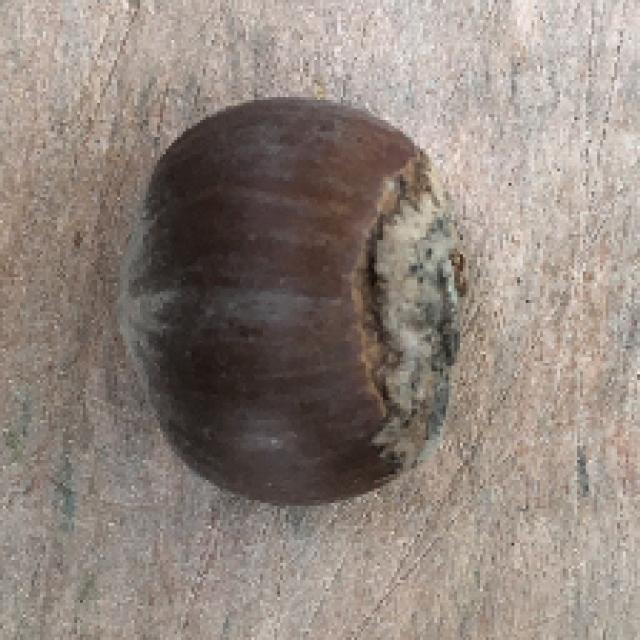damagedHazelnut: (111, 91, 481, 521)
